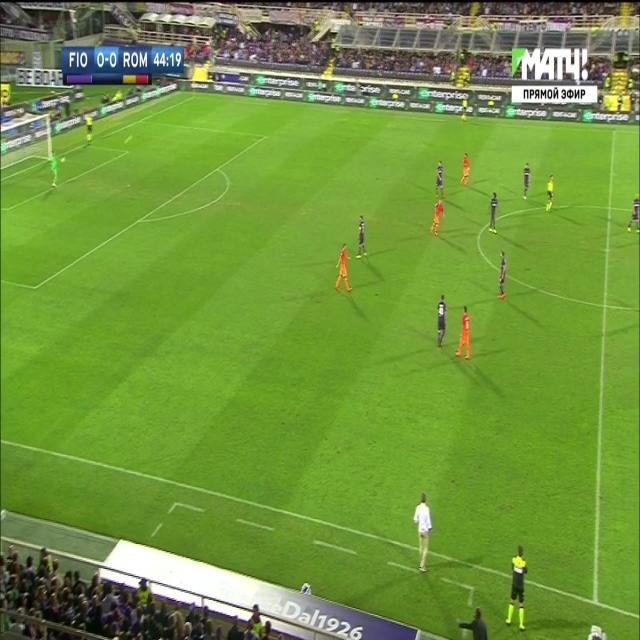Ball: (122, 133, 135, 148)
Goalkeeper: (47, 147, 65, 189)
Player: (334, 241, 355, 295), (453, 304, 472, 361), (434, 292, 448, 352), (428, 199, 447, 238), (354, 211, 368, 261), (496, 248, 509, 301), (625, 191, 640, 236), (434, 157, 447, 203), (488, 191, 501, 235), (458, 148, 471, 189), (522, 162, 533, 202)
Referee: (543, 170, 559, 216), (85, 113, 94, 147), (460, 95, 469, 122)
